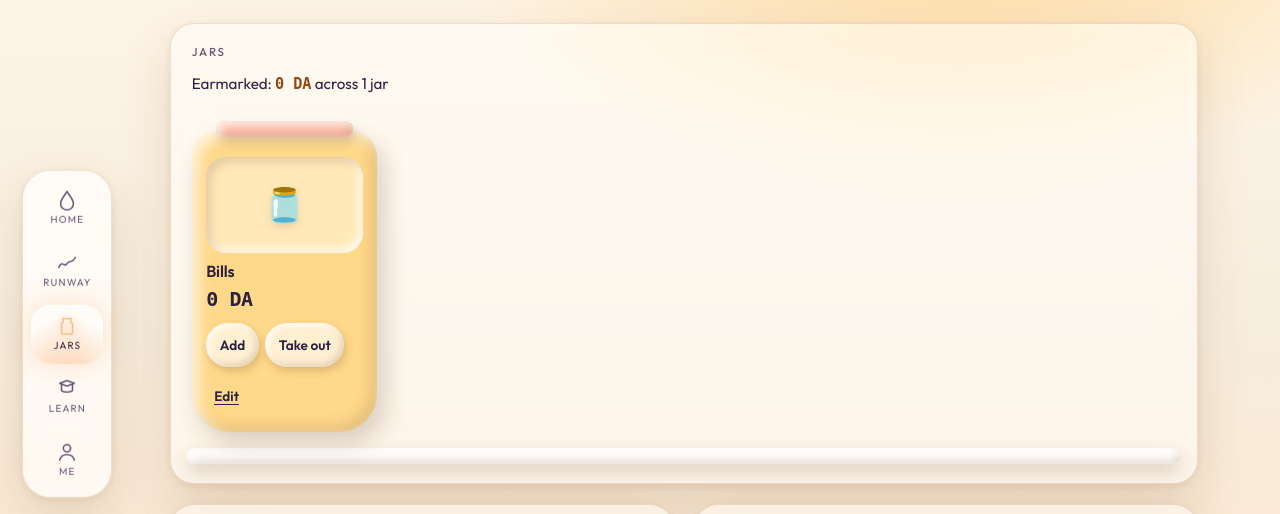
Test: Jars room — shelf and creation › edits and archives a jar (archive asks first)
Click the button with aria-label "Edit Bills": (227, 396) left=206, top=374, right=247, bottom=418
(page scrolled)
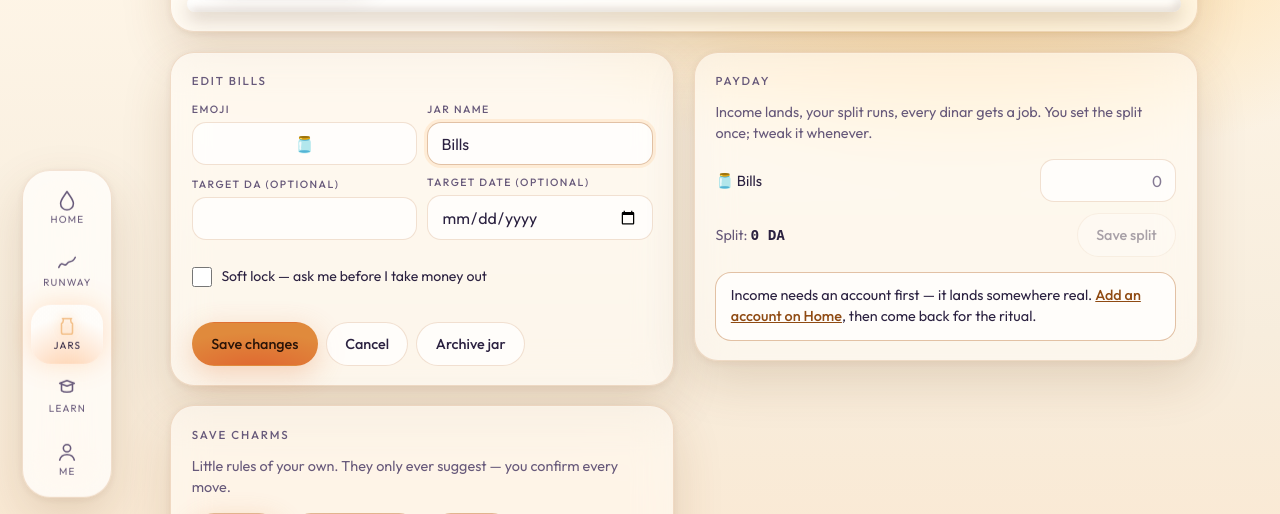
Replace the text in the field labelled "Jar name" with "Bills & rent": (540, 144) left=427, top=122, right=653, bottom=165
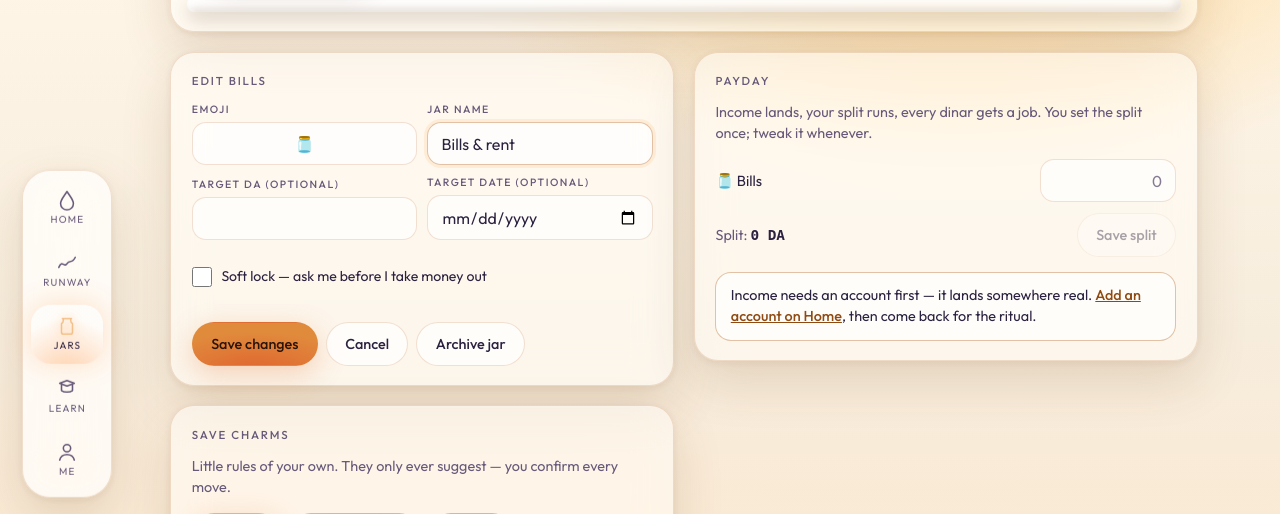
Click the button "Save changes": (255, 344) left=192, top=322, right=318, bottom=366
(page scrolled)
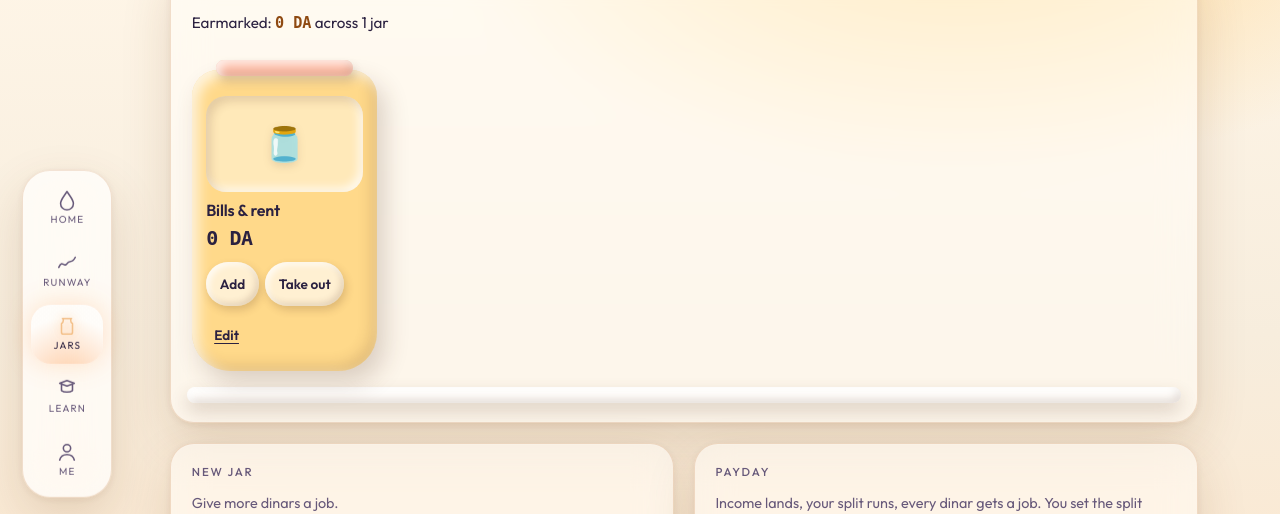
Expected: the heading "Bills & rent" is shown, left=206, top=200, right=280, bottom=220
Click the button with aria-label "Edit Bills & rent": (227, 335) left=206, top=313, right=247, bottom=357
(page scrolled)
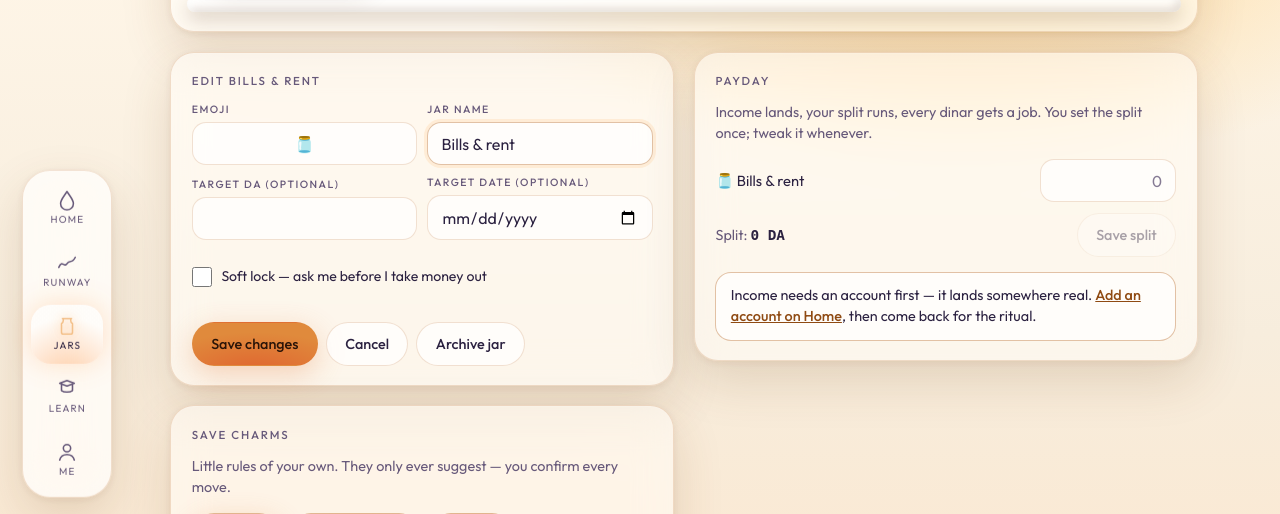
Click the button "Archive jar": (471, 344) left=416, top=322, right=525, bottom=366
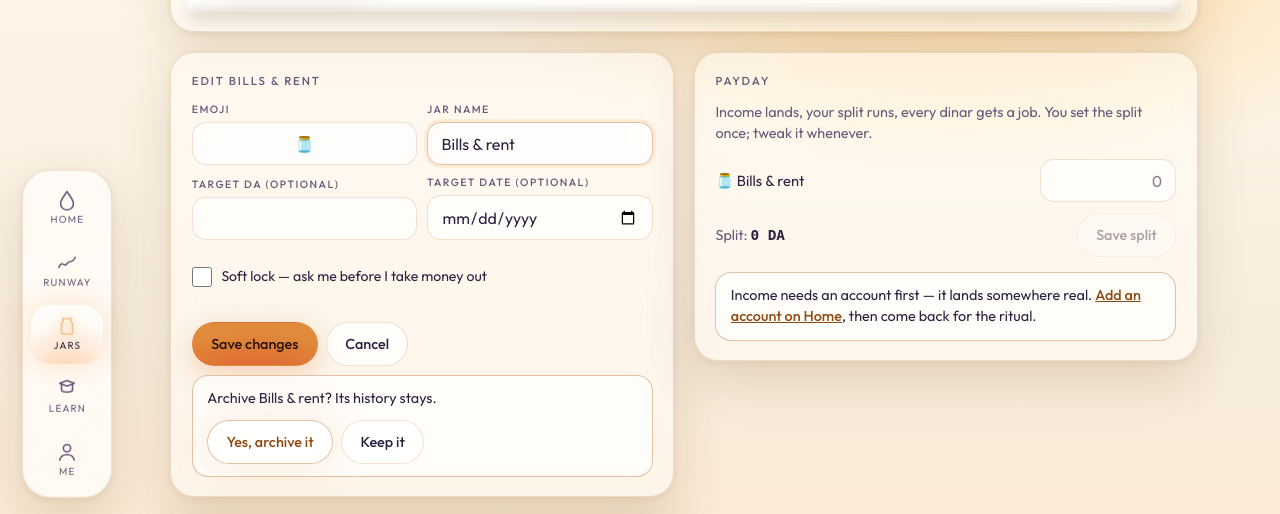
Click the button "Yes, archive it": (270, 442) left=207, top=420, right=333, bottom=464
(page scrolled)
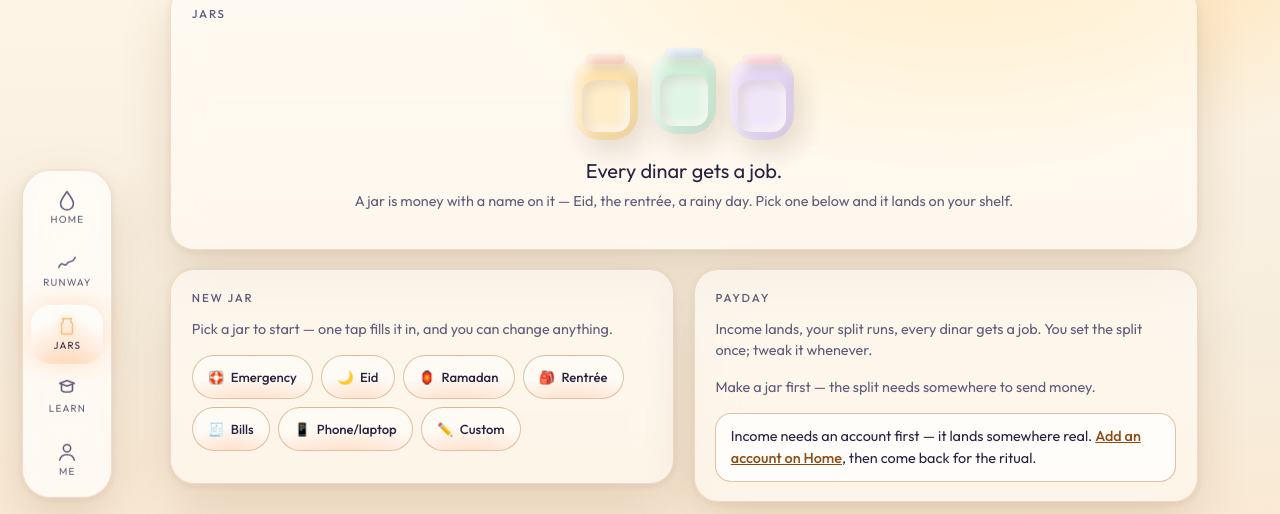
Expected: the text "Every dinar gets a job." is shown, left=586, top=158, right=782, bottom=183
